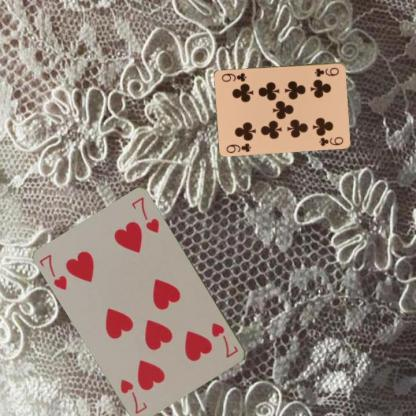7h: (37, 252, 69, 292), (208, 320, 240, 359)
9c: (223, 140, 252, 154), (312, 65, 340, 78)
